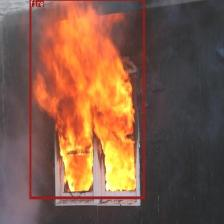fire: (29, 0, 144, 199)
